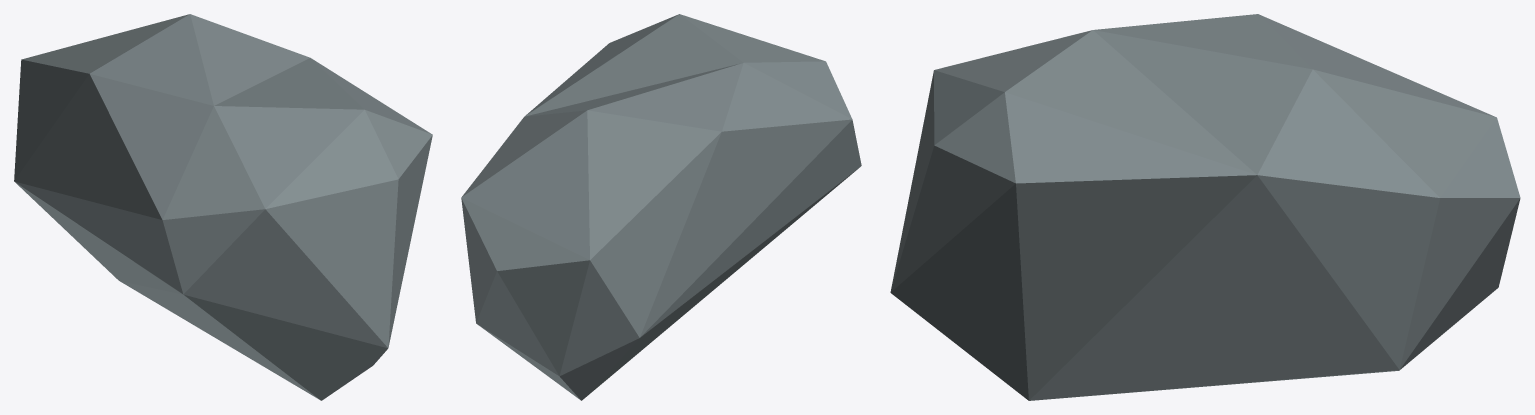
The model's file is BigRock_03.fbx.
3 renders of one model, left to right at view 1: azimuth 30°, elevation 25°; view 2: azimuth 150°, elevation 25°; view 3: azimuth 270°, elevation 25°, orthographic. The views are drawn at different scales.
Visible parts, largest first — view 1: BigRock_03; view 2: BigRock_03; view 3: BigRock_03.
Part boxes in pixels (x1,y1,x2,y2): BigRock_03: (14, 14, 432, 400); BigRock_03: (461, 14, 861, 400); BigRock_03: (890, 14, 1520, 400).
Size of the model in its own units: 147 by 151 by 267.
